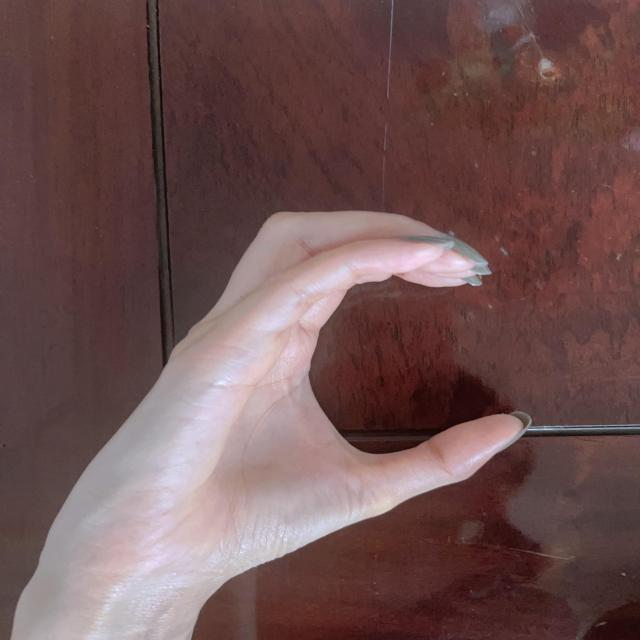C: (55, 205, 538, 577)
